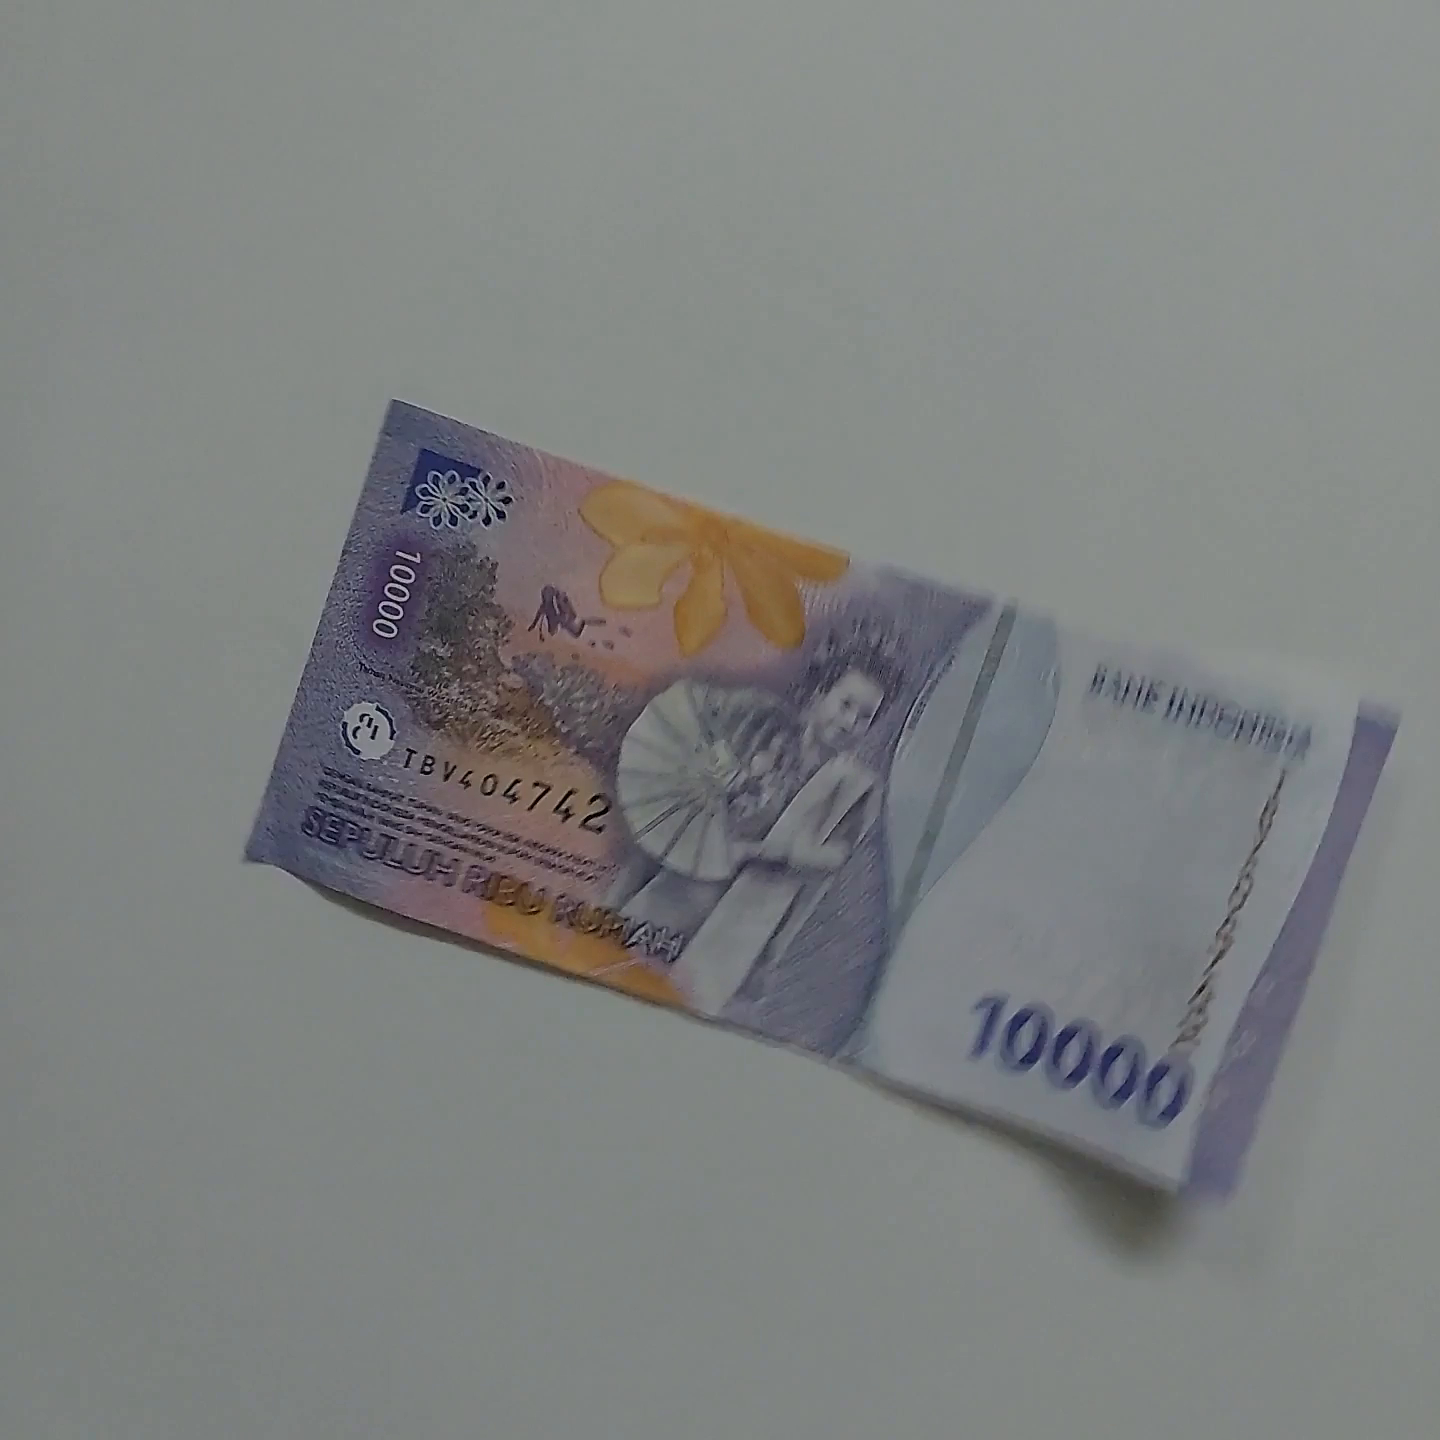10k: (405, 395, 1440, 905)
